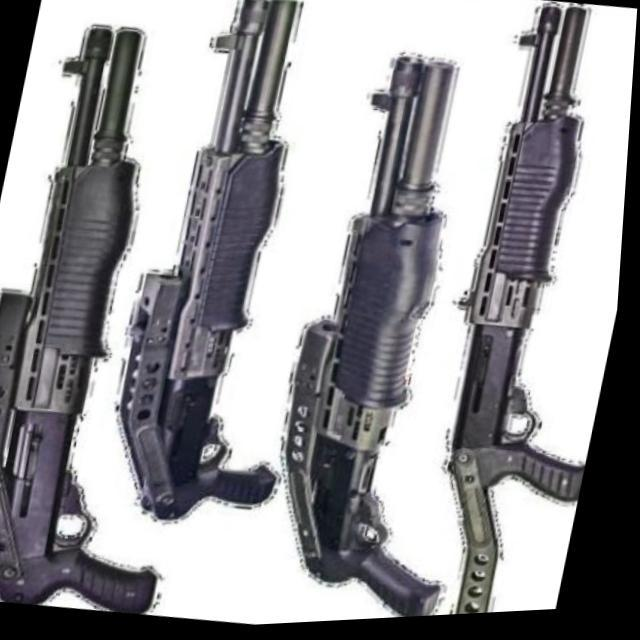weapon: (248, 39, 554, 628), (0, 9, 273, 625), (93, 0, 377, 540), (396, 0, 638, 623)
